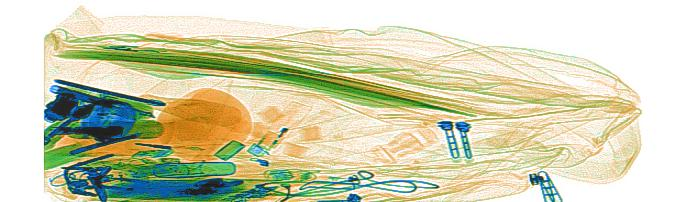lighter: (245, 98, 311, 162)
